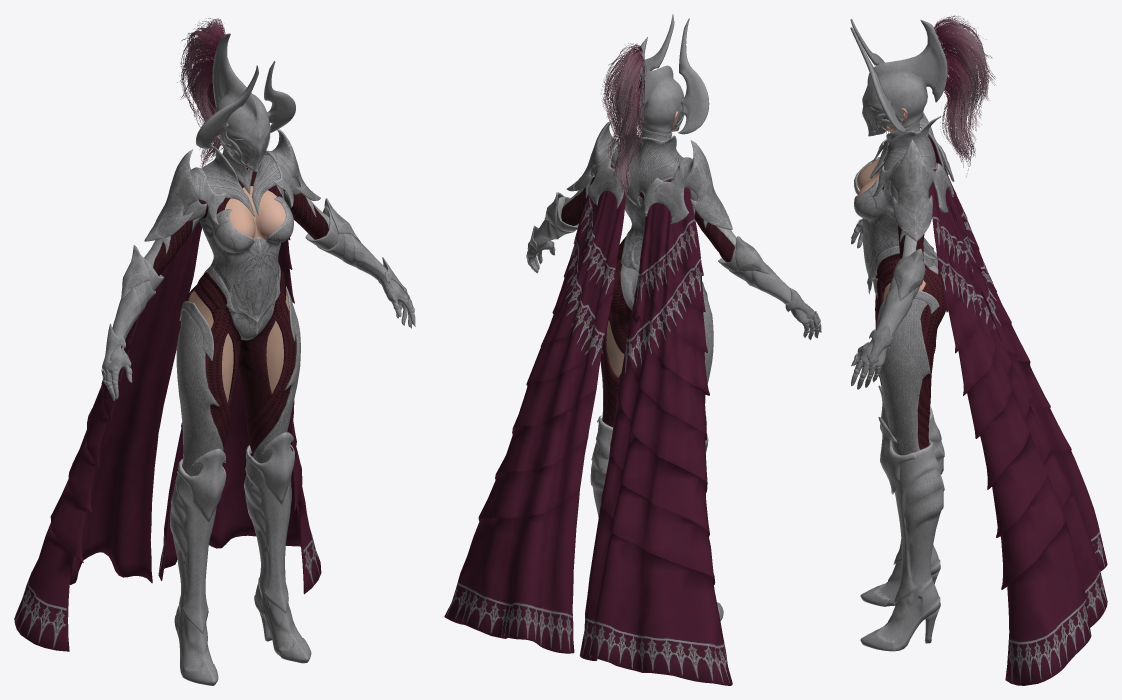
3 views of the same model, side by side, from view 1: azimuth 30°, elevation 25°; view 2: azimuth 150°, elevation 25°; view 3: azimuth 270°, elevation 25° (orthographic). The views are drawn at different scales.
Parts seen in each view (by area): view 1: GF_0006_T05_Cape, GF_0006_T05_Pants, GF_0006_T05_Boots, GF_0006_T05_Body, GF_0006_T05_Helmet, GF_0006_T05_Glove, GF_0006_T05_Shoulder; view 2: GF_0006_T05_Cape, GF_0006_T05_Helmet, GF_0006_T05_Body, GF_0006_T05_Shoulder, GF_0006_T05_Glove, GF_0006_T05_Pants, GF_0006_T05_Boots; view 3: GF_0006_T05_Cape, GF_0006_T05_Helmet, GF_0006_T05_Boots, GF_0006_T05_Pants, GF_0006_T05_Body, GF_0006_T05_Shoulder, GF_0006_T05_Glove.
Part boxes in pixels (left/top/right/bottom): GF_0006_T05_Cape: left=14, top=222, right=321, bottom=651; GF_0006_T05_Pants: left=176, top=284, right=300, bottom=476; GF_0006_T05_Boots: left=170, top=432, right=311, bottom=685; GF_0006_T05_Body: left=121, top=138, right=389, bottom=348; GF_0006_T05_Helmet: left=177, top=18, right=295, bottom=172; GF_0006_T05_Glove: left=101, top=198, right=415, bottom=400; GF_0006_T05_Shoulder: left=144, top=129, right=320, bottom=241; GF_0006_T05_Cape: left=444, top=161, right=732, bottom=685; GF_0006_T05_Helmet: left=601, top=14, right=709, bottom=204; GF_0006_T05_Body: left=561, top=129, right=736, bottom=273; GF_0006_T05_Shoulder: left=566, top=121, right=732, bottom=229; GF_0006_T05_Glove: left=526, top=192, right=821, bottom=339; GF_0006_T05_Pants: left=600, top=258, right=713, bottom=426; GF_0006_T05_Boots: left=590, top=415, right=723, bottom=620; GF_0006_T05_Cape: left=928, top=135, right=1107, bottom=685; GF_0006_T05_Helmet: left=850, top=15, right=996, bottom=176; GF_0006_T05_Boots: left=860, top=385, right=944, bottom=651; GF_0006_T05_Pants: left=873, top=251, right=946, bottom=455; GF_0006_T05_Body: left=854, top=116, right=941, bottom=294; GF_0006_T05_Shoulder: left=872, top=112, right=954, bottom=241; GF_0006_T05_Glove: left=851, top=219, right=925, bottom=389.
Bounding box in the file's own units: 1.04 × 2.02 × 0.772.
10 materials, 9 textured.
